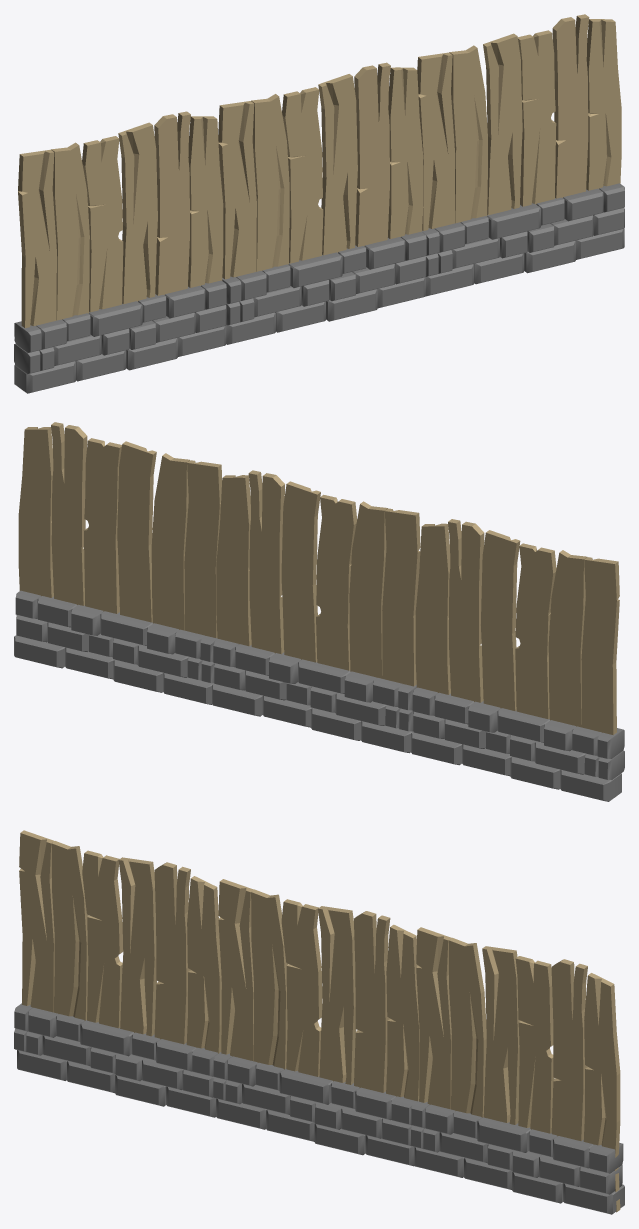
Rendered from prop_wood_wall_1.FBX.
3 renders of one model, top to bottom at view 1: azimuth 30°, elevation 25°; view 2: azimuth 150°, elevation 25°; view 3: azimuth 330°, elevation 25°, orthographic.
Parts seen in each view (by area): view 1: Object002; view 2: Object002; view 3: Object002.
Part boxes in pixels (x1,y1,x2,y2): Object002: (14,14,624,393); Object002: (14,422,624,801); Object002: (14,830,624,1214).
Size of the model in its own units: 3.01 by 1.14 by 0.1773.
